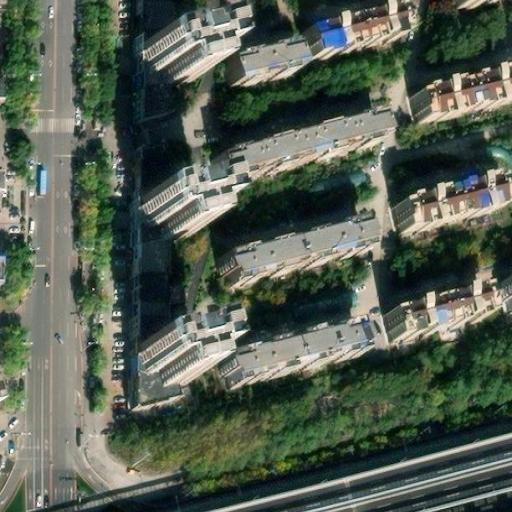building: (208, 114, 375, 180), (209, 219, 360, 285), (211, 325, 353, 387), (141, 65, 184, 212), (386, 176, 492, 232), (138, 224, 180, 357), (296, 4, 399, 58), (385, 288, 489, 340), (134, 183, 208, 241), (138, 23, 211, 80), (135, 329, 208, 386), (218, 41, 292, 88), (405, 81, 455, 126), (136, 355, 177, 407), (145, 0, 185, 52)
